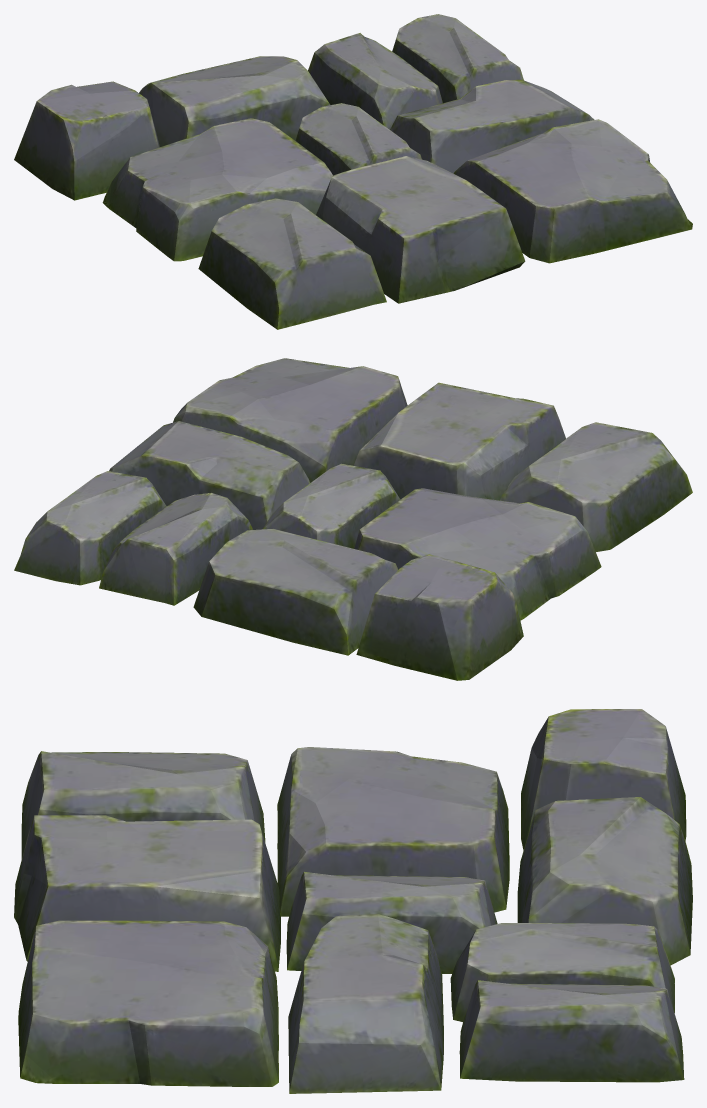
File: RockPath_Square_Small_1.glb
3 views of the same model, one above another, from view 1: azimuth 30°, elevation 25°; view 2: azimuth 150°, elevation 25°; view 3: azimuth 270°, elevation 25° (orthographic). The views are drawn at different scales.
Size of the model in its own units: 1.02 by 0.1499 by 0.9739.
1 material, 1 textured.
